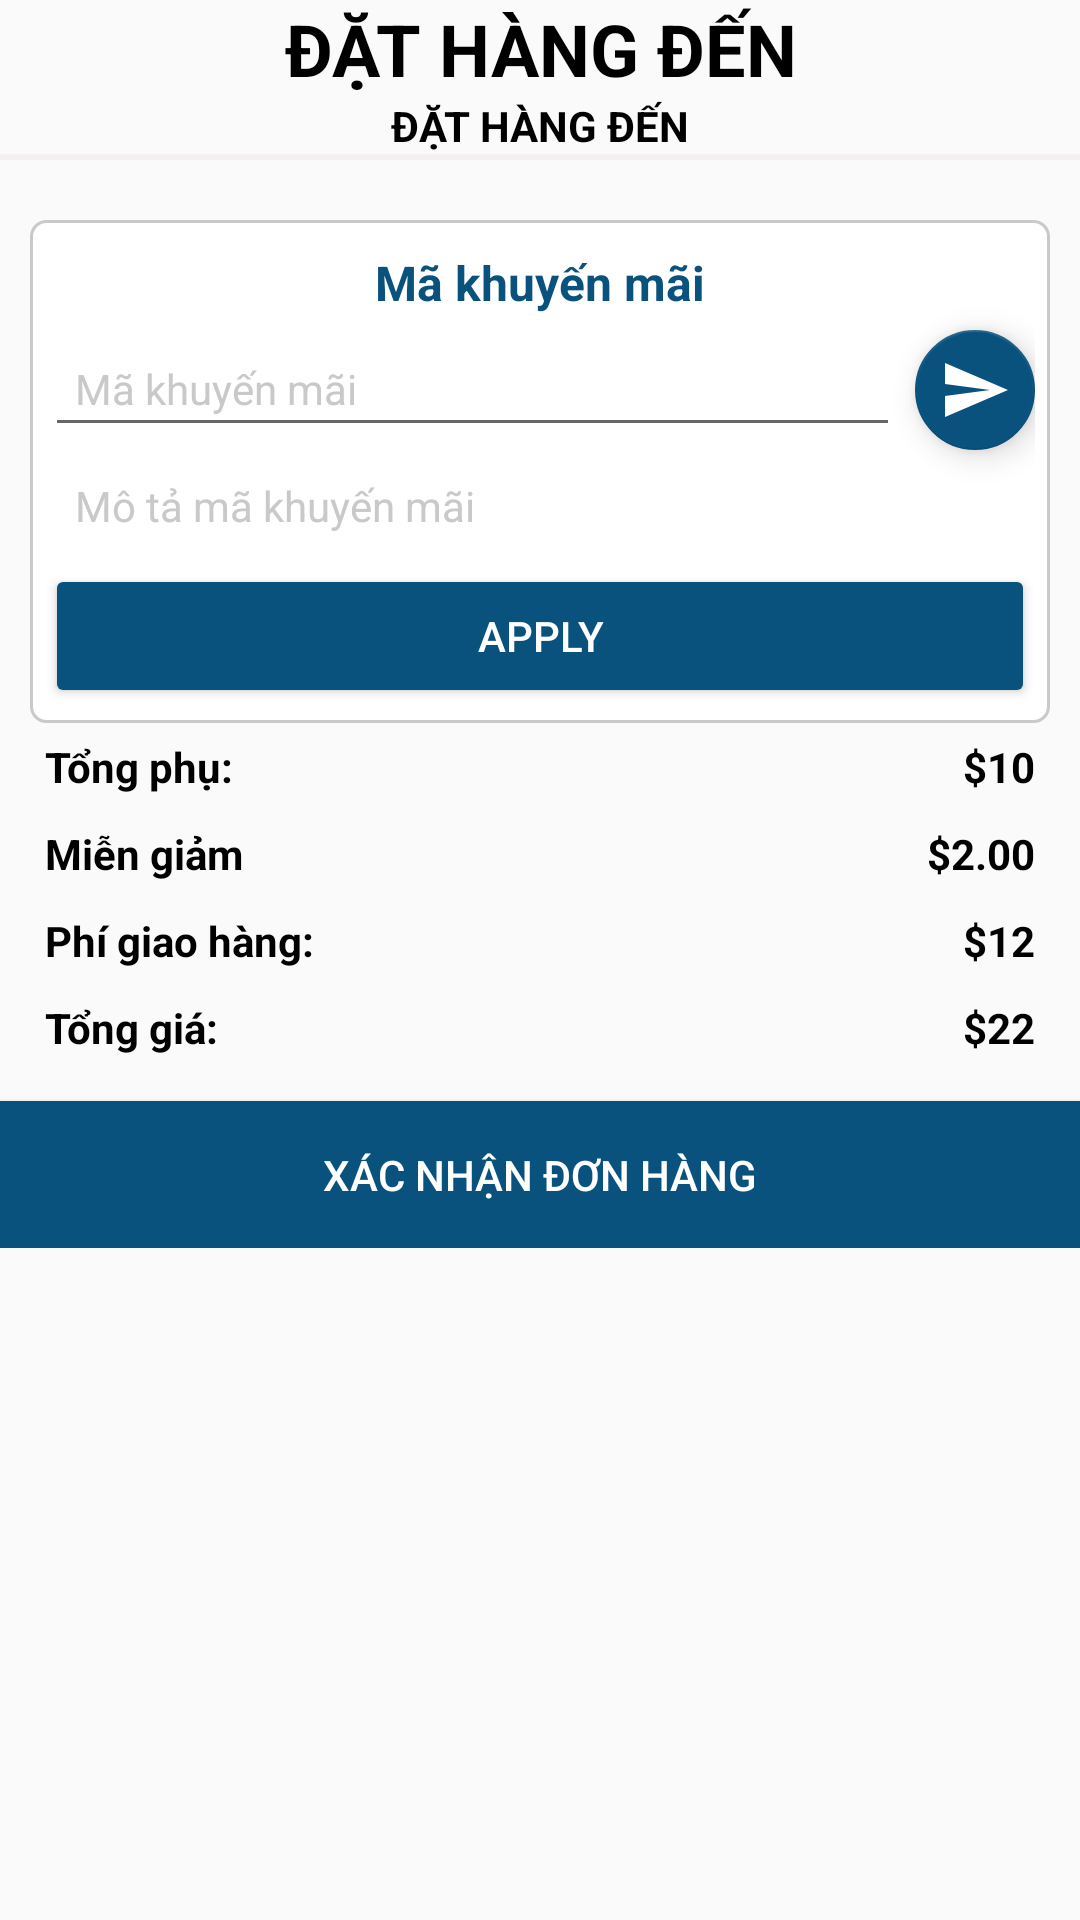

Locate icon controls on the screen. Image size 1080 x 1920, boxes as rect(x1, y1, x2, y2).
send: rect(915, 330, 1035, 450)
